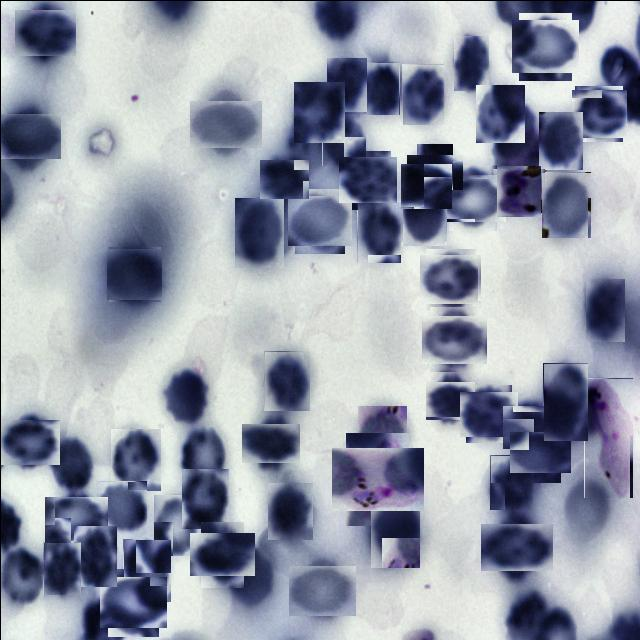red blood cell: (514, 15, 574, 76), (369, 494, 419, 567), (486, 516, 546, 576), (195, 93, 255, 153), (102, 572, 162, 632), (542, 362, 587, 440), (292, 560, 351, 619), (234, 197, 283, 267), (290, 192, 348, 249), (540, 171, 590, 237), (178, 424, 228, 489), (425, 310, 482, 367), (444, 169, 501, 226), (0, 105, 54, 164), (422, 250, 478, 306), (293, 81, 344, 142), (110, 428, 160, 490), (226, 544, 272, 611), (358, 405, 408, 466), (122, 538, 170, 601), (152, 493, 200, 555), (17, 5, 71, 60), (194, 527, 249, 581), (2, 414, 56, 468), (48, 492, 102, 546), (476, 84, 526, 142), (107, 247, 161, 300), (181, 468, 228, 528), (263, 350, 309, 410), (341, 154, 394, 206), (356, 200, 400, 262), (46, 433, 93, 491), (162, 368, 209, 426), (572, 87, 624, 139), (462, 387, 514, 439), (514, 426, 566, 478), (96, 480, 146, 533), (73, 525, 116, 586), (267, 482, 312, 539), (401, 63, 443, 124), (538, 111, 582, 169), (402, 189, 446, 245), (585, 278, 624, 341), (321, 111, 365, 166), (489, 454, 532, 509), (246, 418, 294, 467), (402, 162, 449, 210), (503, 403, 550, 450), (326, 57, 366, 111), (411, 148, 457, 194), (42, 541, 80, 594), (262, 156, 306, 201), (427, 378, 471, 422), (453, 35, 488, 90), (364, 61, 399, 114)
trophozoite: (338, 440, 416, 518), (583, 377, 632, 497), (494, 166, 542, 214)
